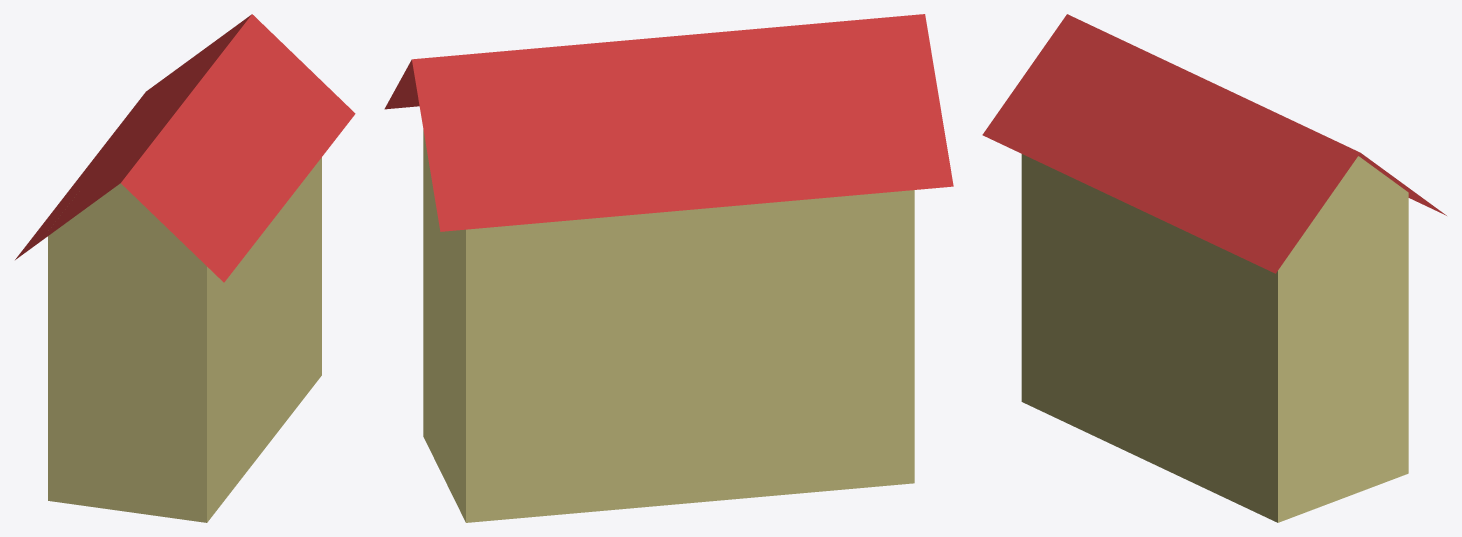
3 renders of one model, left to right at view 1: azimuth 30°, elevation 25°; view 2: azimuth 150°, elevation 25°; view 3: azimuth 270°, elevation 25°, orthographic. The views are drawn at different scales.
Size of the model in its own units: 8.67 by 8.38 by 7.05.
